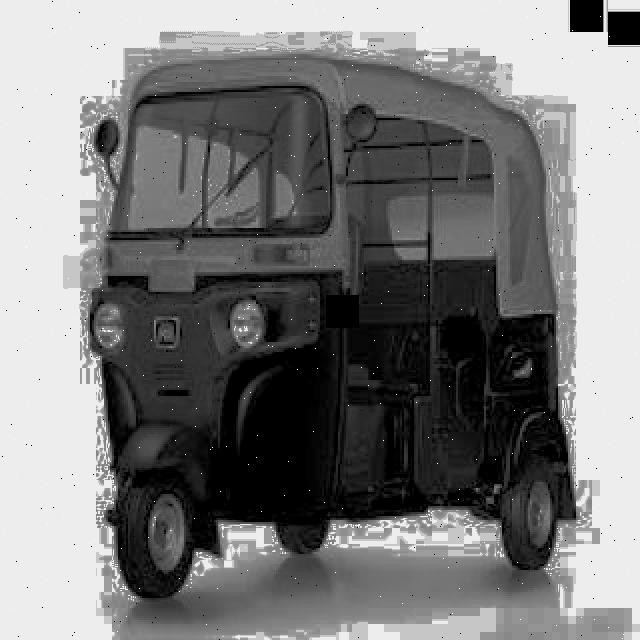Auto-Rickshaw: (74, 38, 600, 616)
